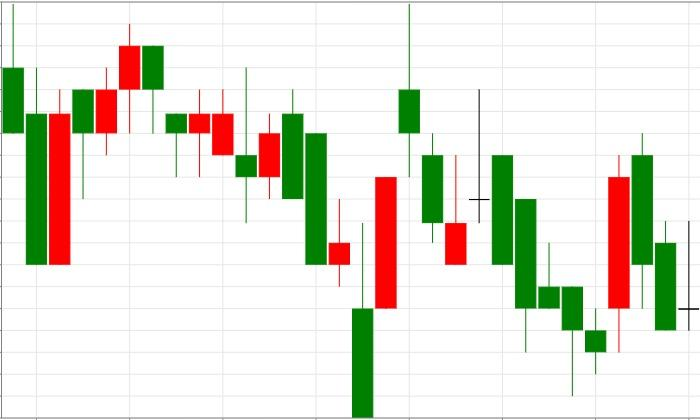morning_star_rise: (469, 88, 629, 396)
